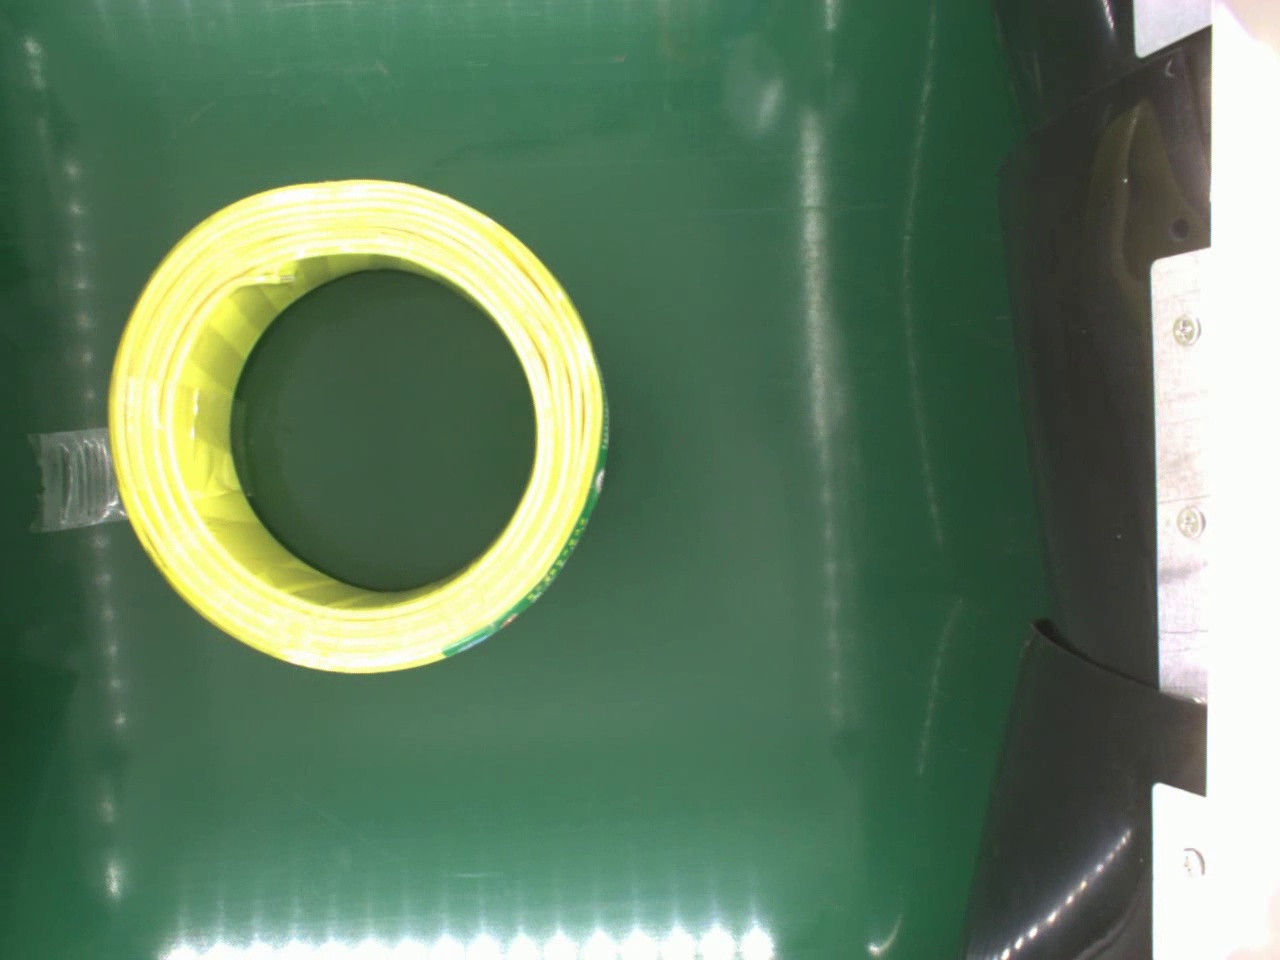yellow: (105, 172, 616, 683)
